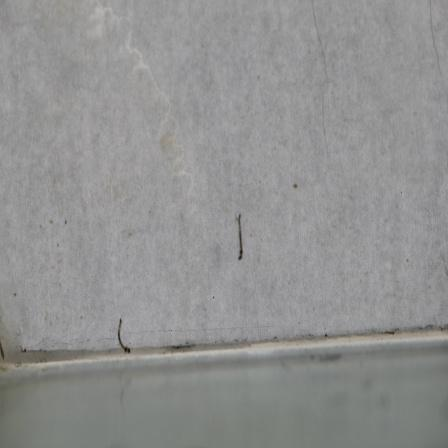Jentik-Nyamuk: (114, 315, 135, 357), (232, 211, 249, 261)
